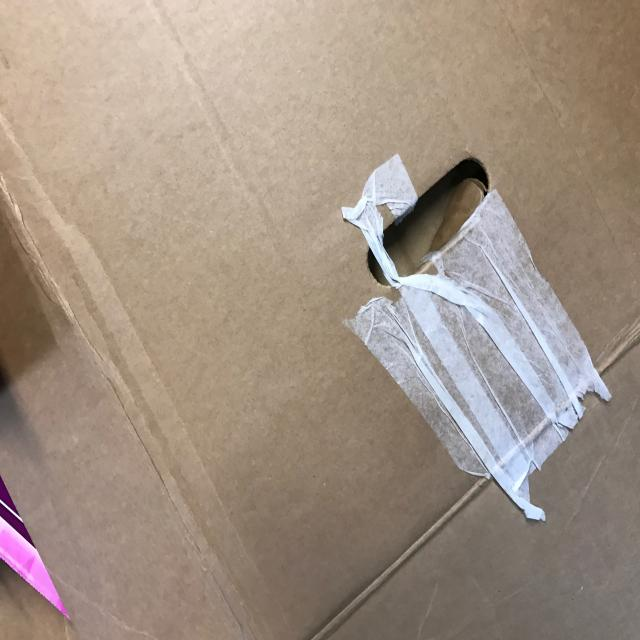cardboard: (341, 152, 613, 522)
